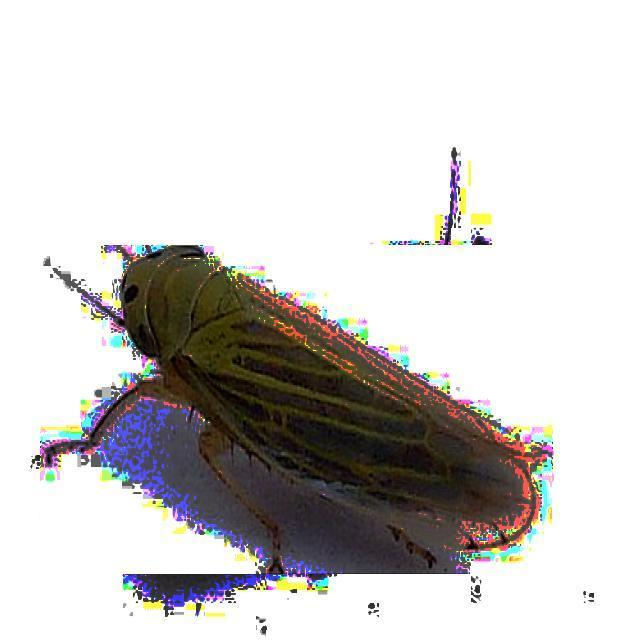green-leafhopper: (41, 246, 552, 573)
